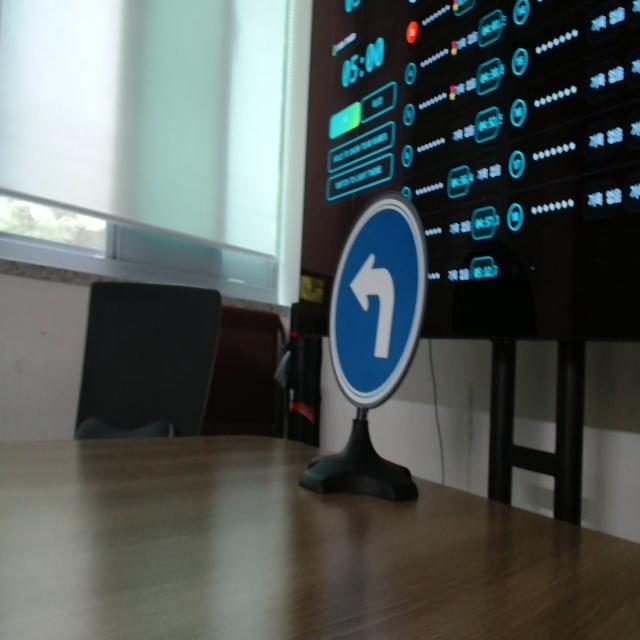left_direction: (327, 194, 428, 401)
